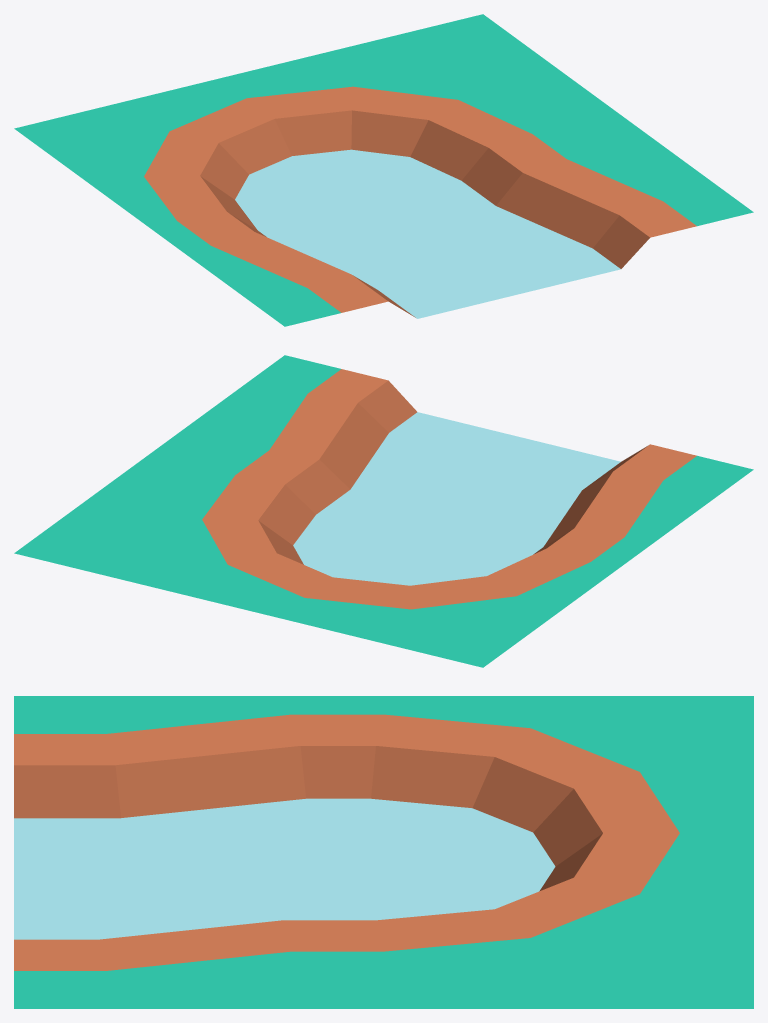
File: ground_riverEndClosed.glb
3 renders of one model, top to bottom at view 1: azimuth 30°, elevation 25°; view 2: azimuth 150°, elevation 25°; view 3: azimuth 270°, elevation 25°, orthographic. The views are drawn at different scales.
Visible parts, largest first — view 1: ground_riverEndClosed; view 2: ground_riverEndClosed; view 3: ground_riverEndClosed.
Boxes of the visible parts, x1,y1,x2,y2 form: ground_riverEndClosed: (14, 14, 753, 326); ground_riverEndClosed: (14, 355, 753, 667); ground_riverEndClosed: (14, 696, 753, 1008).
Bounding box in the file's own units: 1 × 0.05 × 1.
